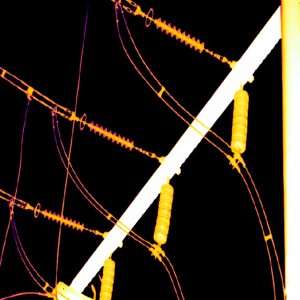insulator: (153, 17, 203, 50), (151, 180, 173, 245), (230, 83, 250, 151), (86, 121, 133, 146), (98, 255, 116, 300), (41, 209, 83, 227)
